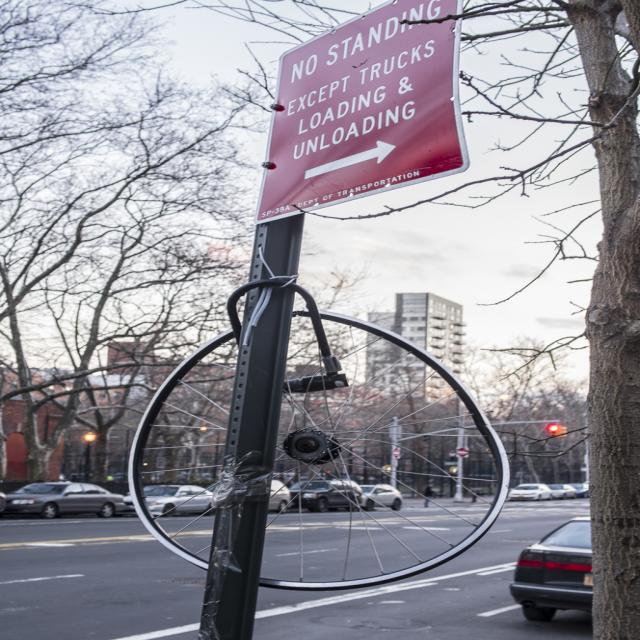car: (507, 482, 549, 500)
